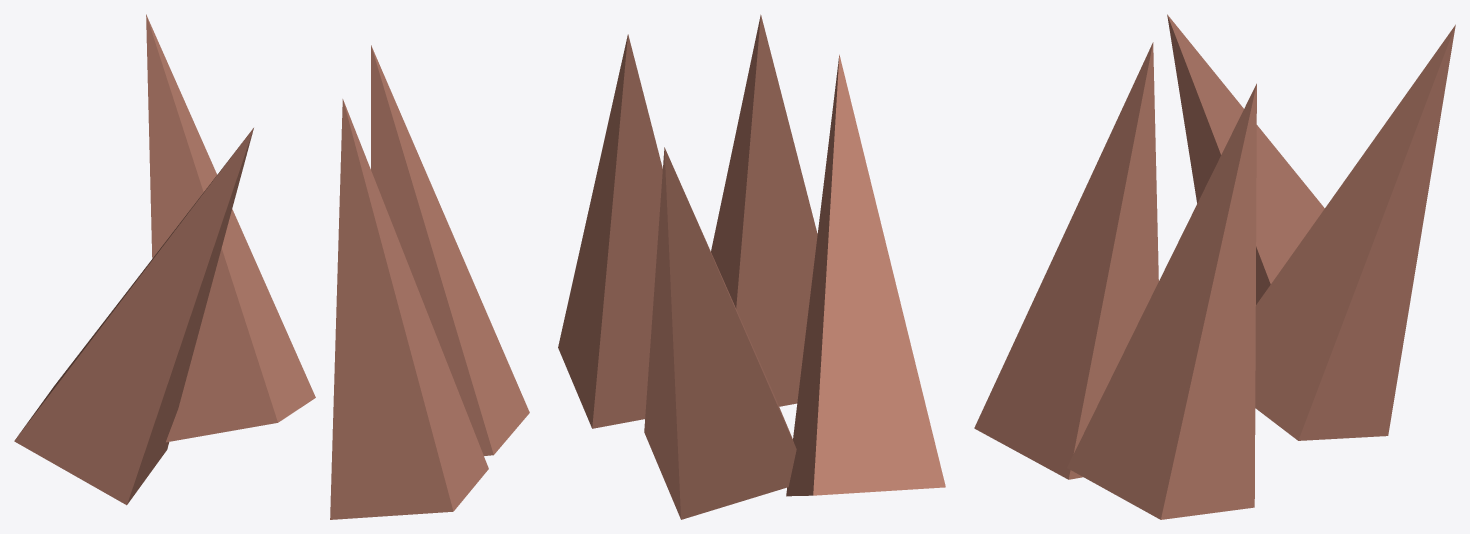
File: ENV_Ember_Cinderleaf.fbx
The picture shows the model from 3 angles, left to right: view 1: azimuth 30°, elevation 25°; view 2: azimuth 150°, elevation 25°; view 3: azimuth 270°, elevation 25°; orthographic projection. The views are drawn at different scales.
Parts seen in each view (by area): view 1: ENV_Ember_Cinderleaf; view 2: ENV_Ember_Cinderleaf; view 3: ENV_Ember_Cinderleaf.
Part boxes in pixels (box(x1,y1,x2,y2)): ENV_Ember_Cinderleaf: box(14, 14, 529, 519); ENV_Ember_Cinderleaf: box(558, 14, 945, 519); ENV_Ember_Cinderleaf: box(974, 14, 1455, 519).
Size of the model in its own units: 0.975 by 0.8272 by 0.8754.
